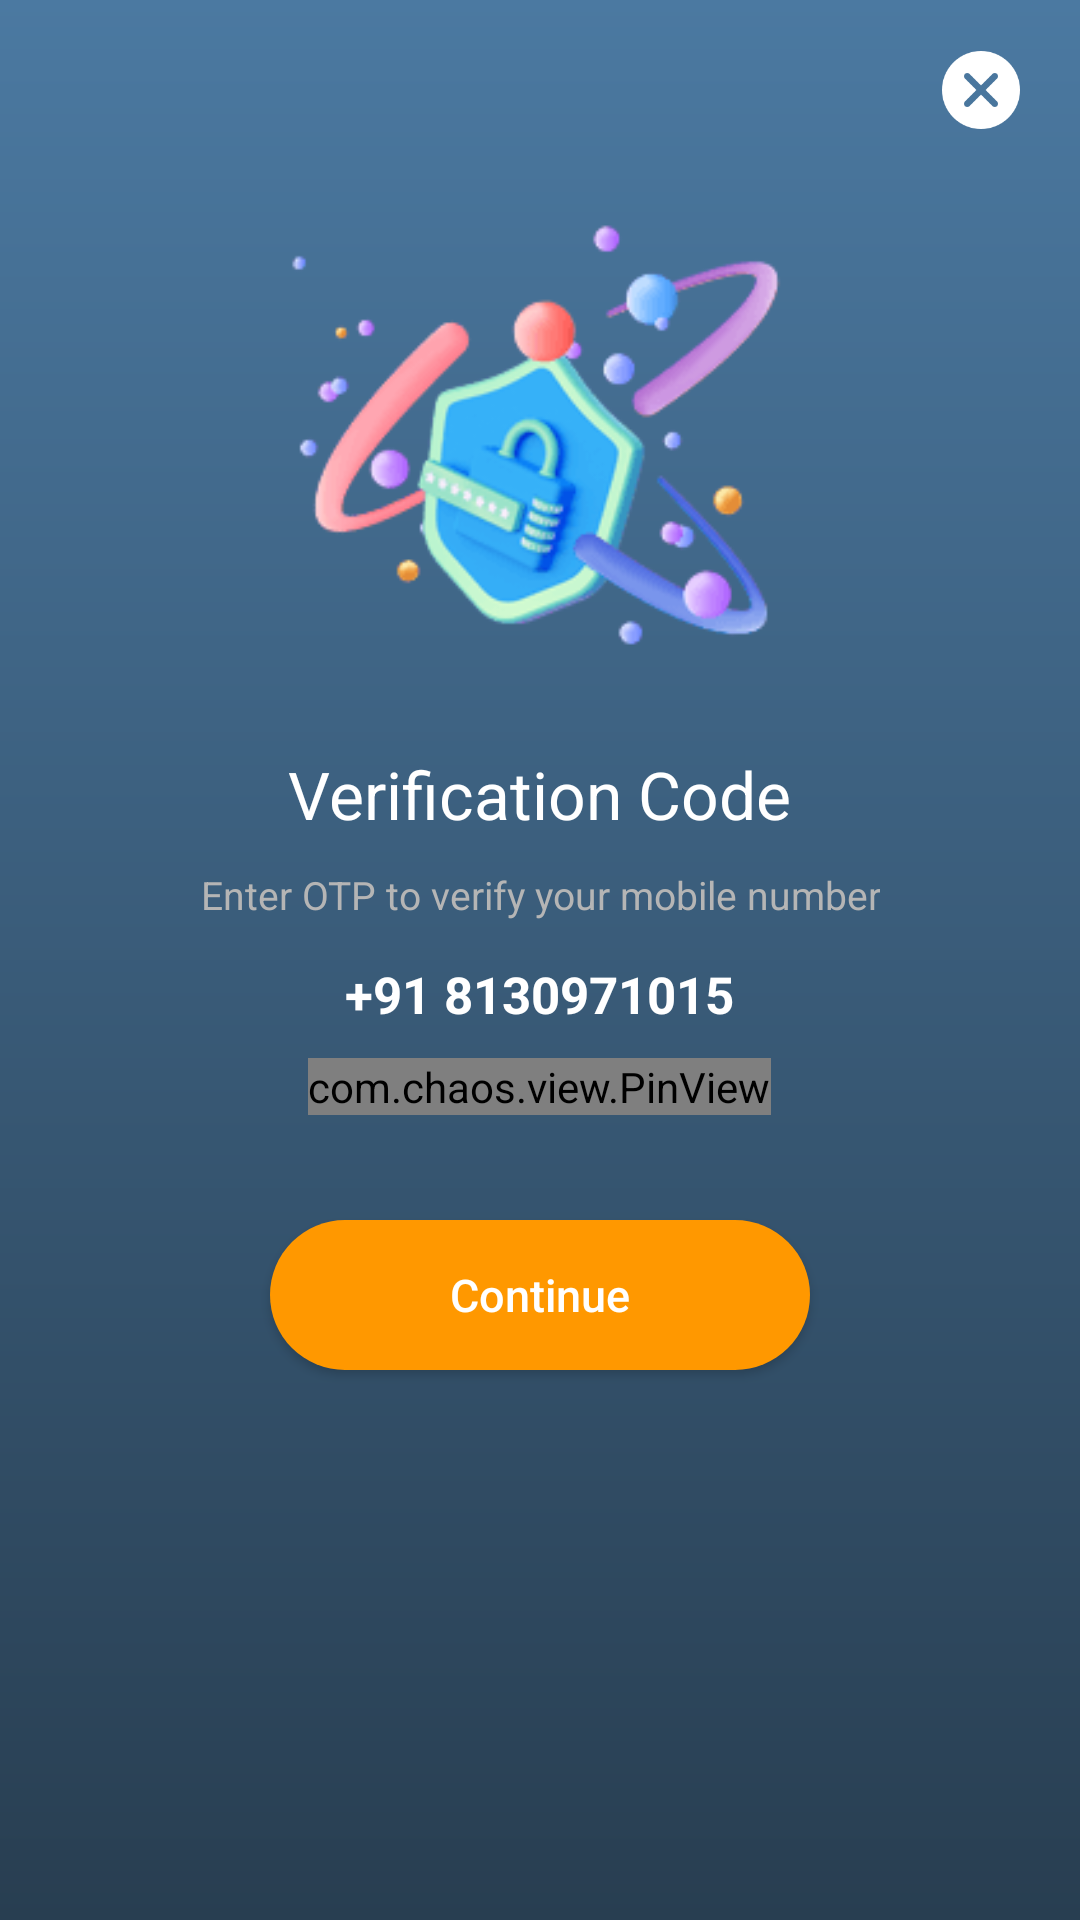

Locate icon controls on the screen. Image size 1080w x 1920h, boxes as (x1, y1, x2, y2).
cancel: (942, 51, 1020, 129)
